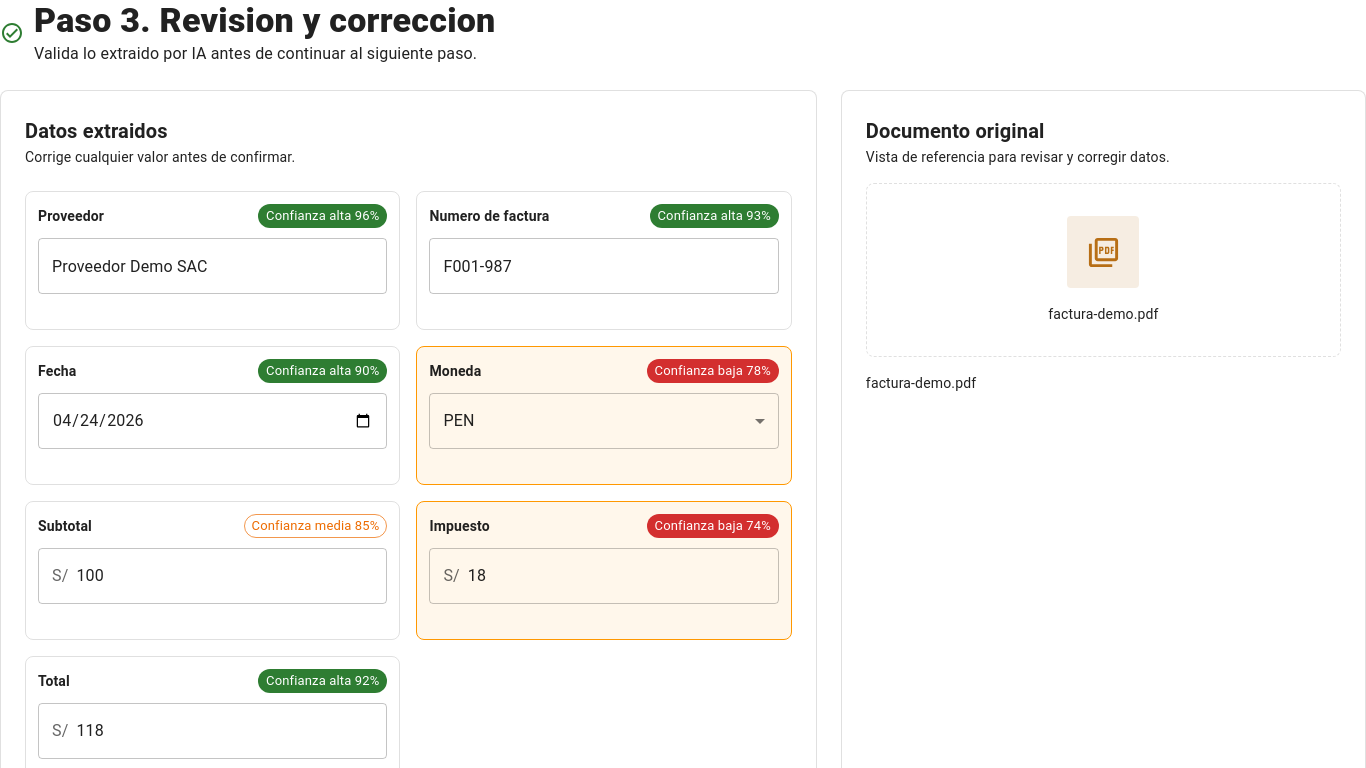
Test case: ReviewStep › shows required-field errors and keeps confirm disabled when a field is empty
Clear the field named "Proveedor" at {"x": 213, "y": 266}, box [38,238,387,294]
(page scrolled)
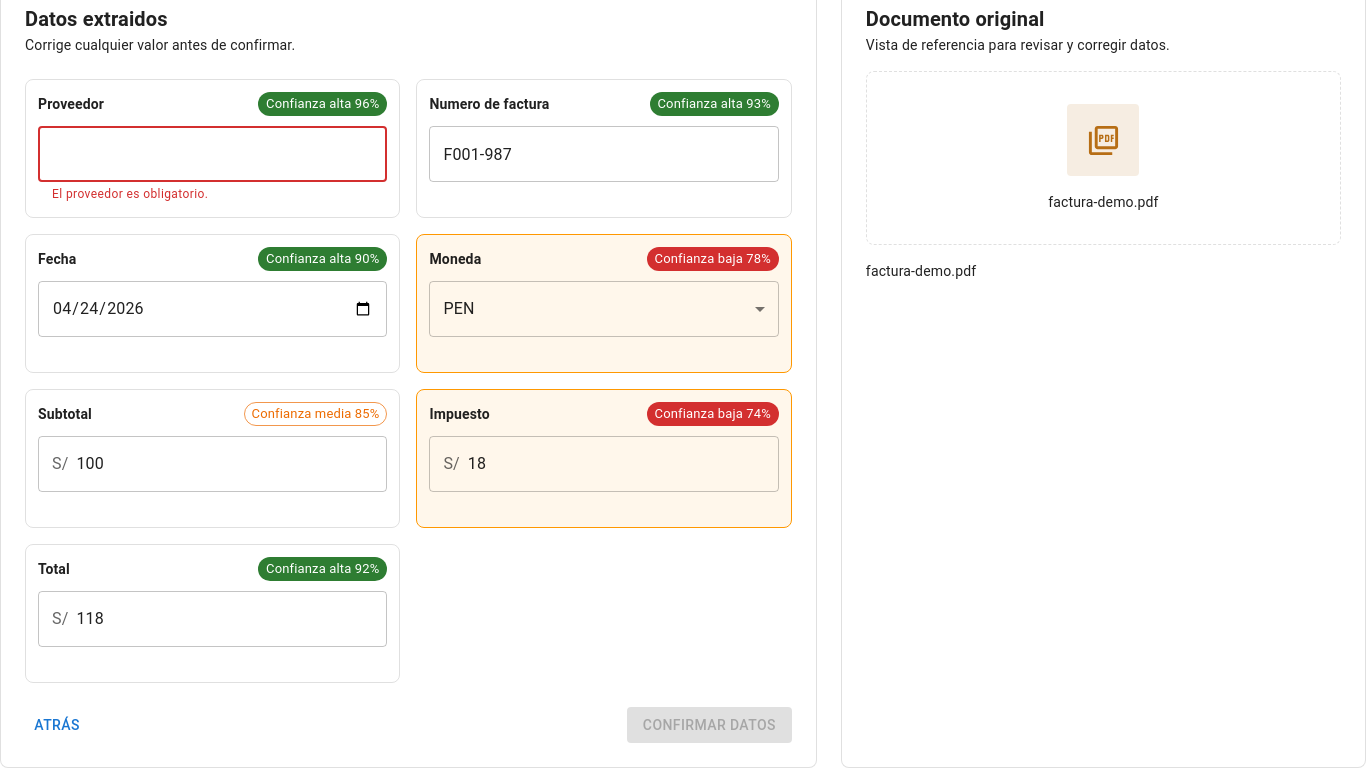
Expected: the text "El proveedor es obligatorio." is shown, [52,187,208,201]
Expected: the button "Confirmar datos" is disabled, [627,707,792,743]
